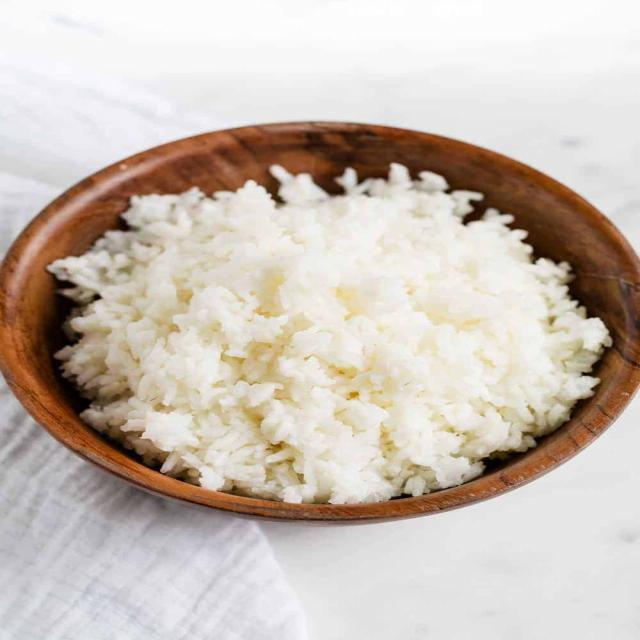Rice: (46, 165, 615, 506)
